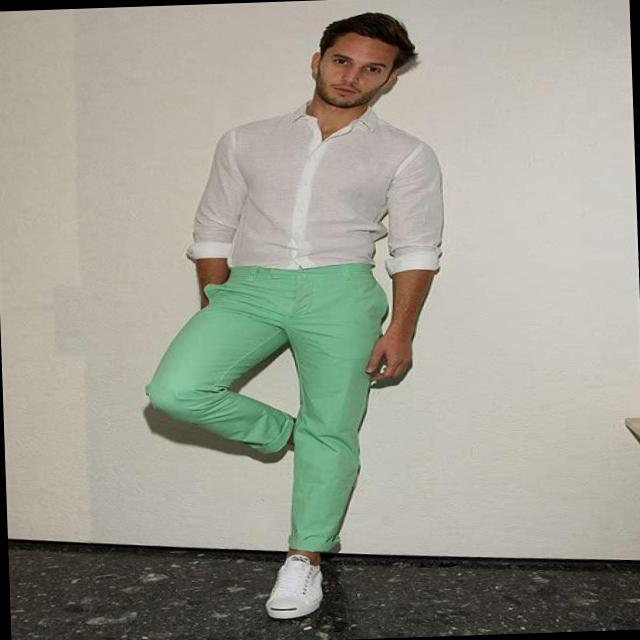pants: (144, 261, 397, 555)
shirt: (181, 95, 446, 279)
